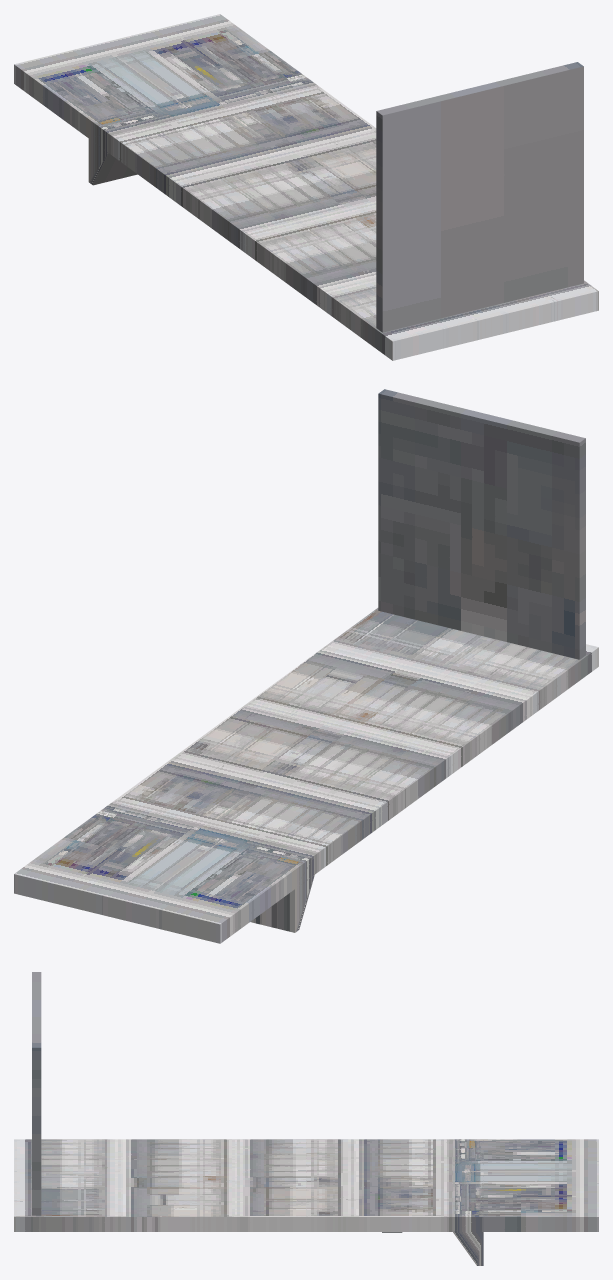
The model's file is 030_highriserWall.gltf.
The picture shows the model from 3 angles, top to bottom: view 1: azimuth 30°, elevation 25°; view 2: azimuth 150°, elevation 25°; view 3: azimuth 270°, elevation 25°; orthographic projection. The views are drawn at different scales.
Parts seen in each view (by area): view 1: highriserWall; view 2: highriserWall; view 3: highriserWall.
Part boxes in pixels (<box>): highriserWall: <box>14,14,598,360</box>; highriserWall: <box>14,389,598,943</box>; highriserWall: <box>14,972,598,1265</box>.
Size of the model in its own units: 4.09 by 5.32 by 13.01.
1 material, 1 textured.
